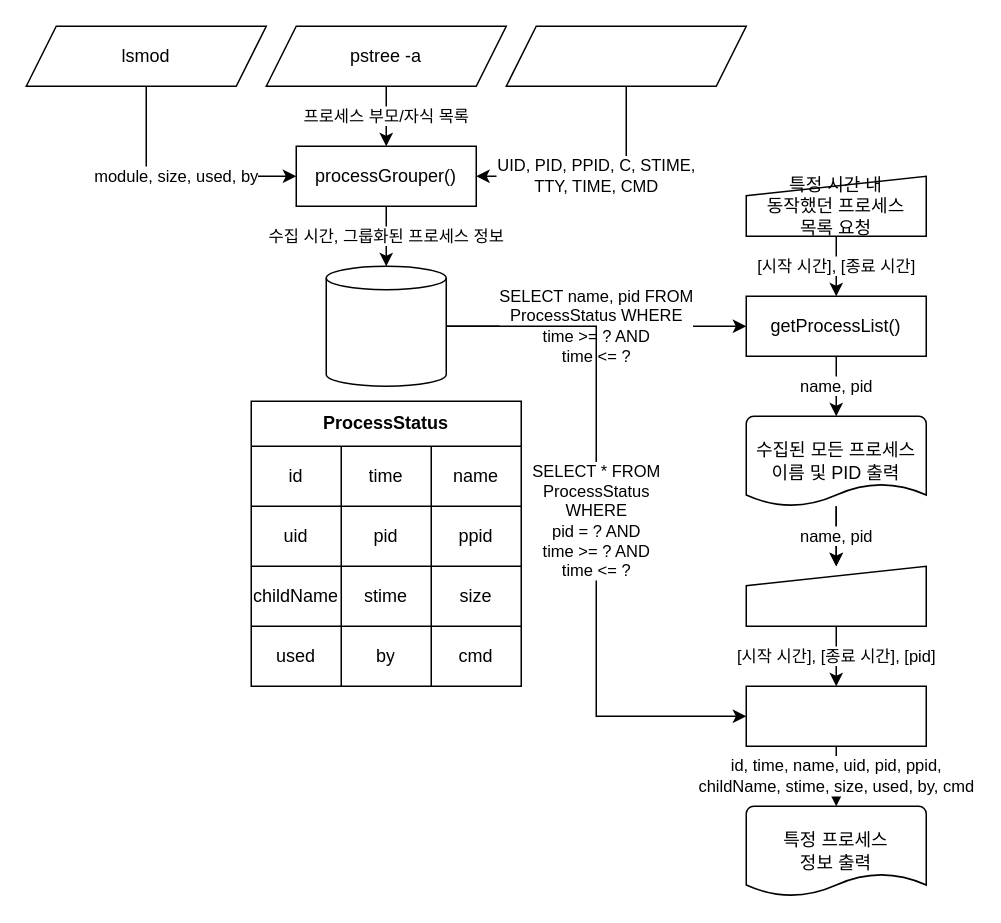
This 1001x923 diagram has some shape labels left out. Each missing label, with the centre of its shape:
getProcess(): point 835,715
Process Status: point 385,325
ps -eaf: point 625,55
특정 PID를 가진 프로세스 추적: point 835,595
